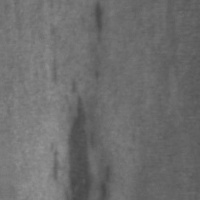inclusion: (43, 77, 118, 199), (85, 0, 108, 45)
